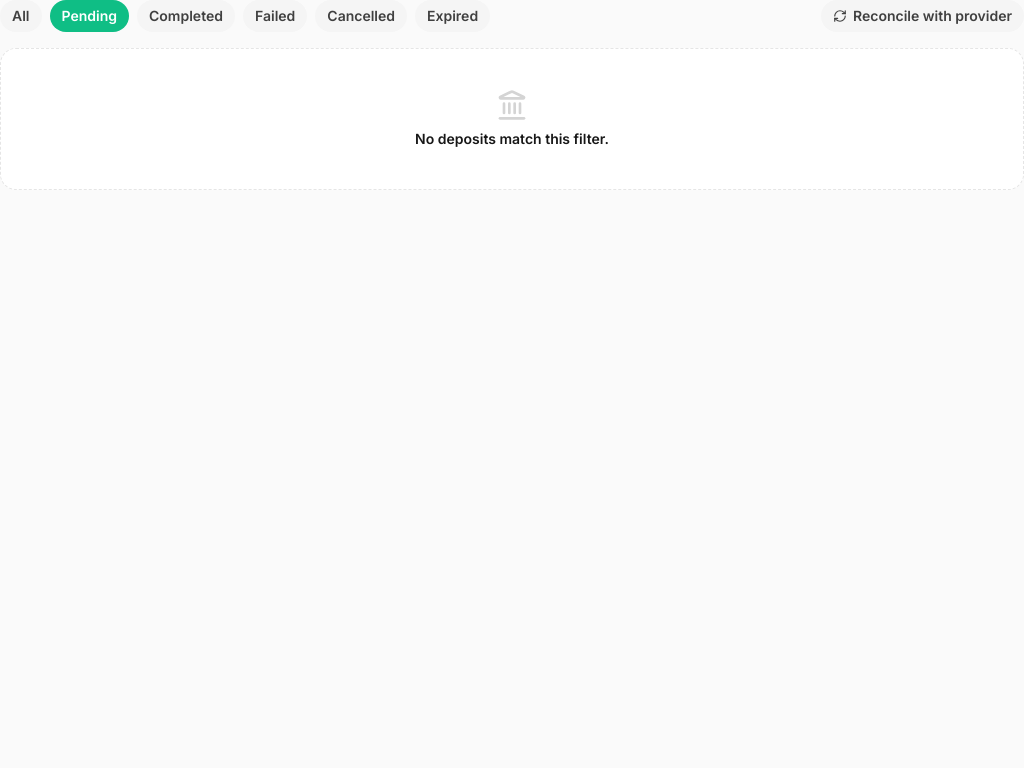
Scenario: DepositsList › never reconciles on the first click — a bulk provider-reconciliation action requires confirmation
What coordinates should you click on to do the following:
click the button "Reconcile with provider"
I would click on:
 (922, 16)
Its box is [821, 0, 1023, 32].
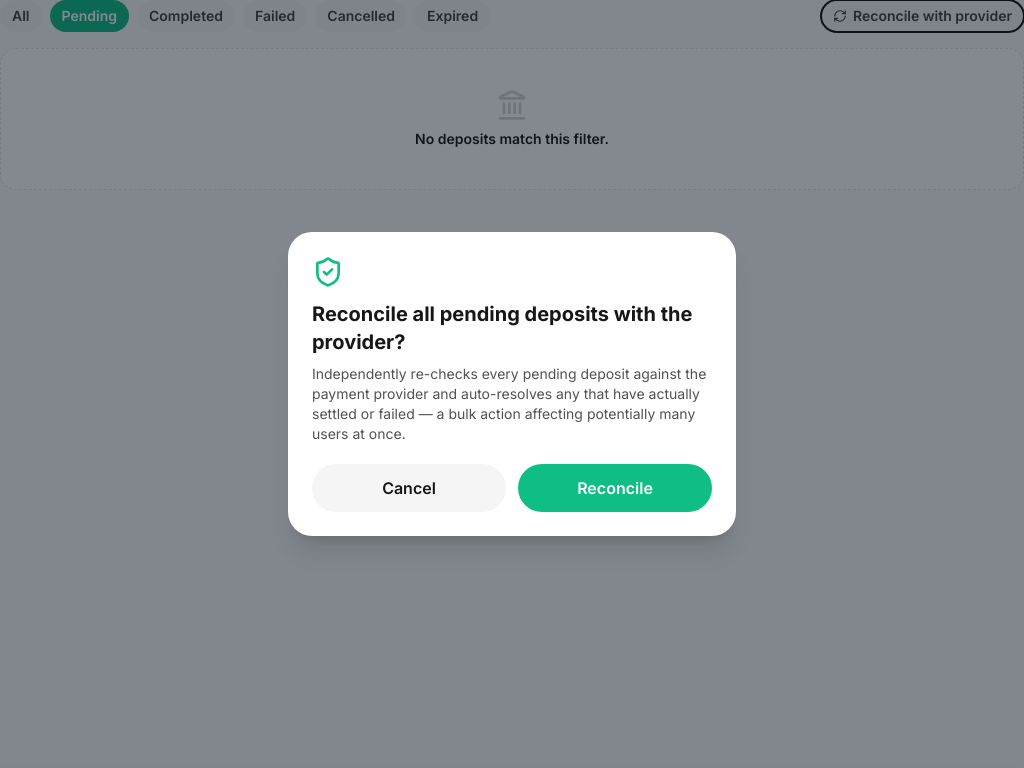
Now the dialog is shown
